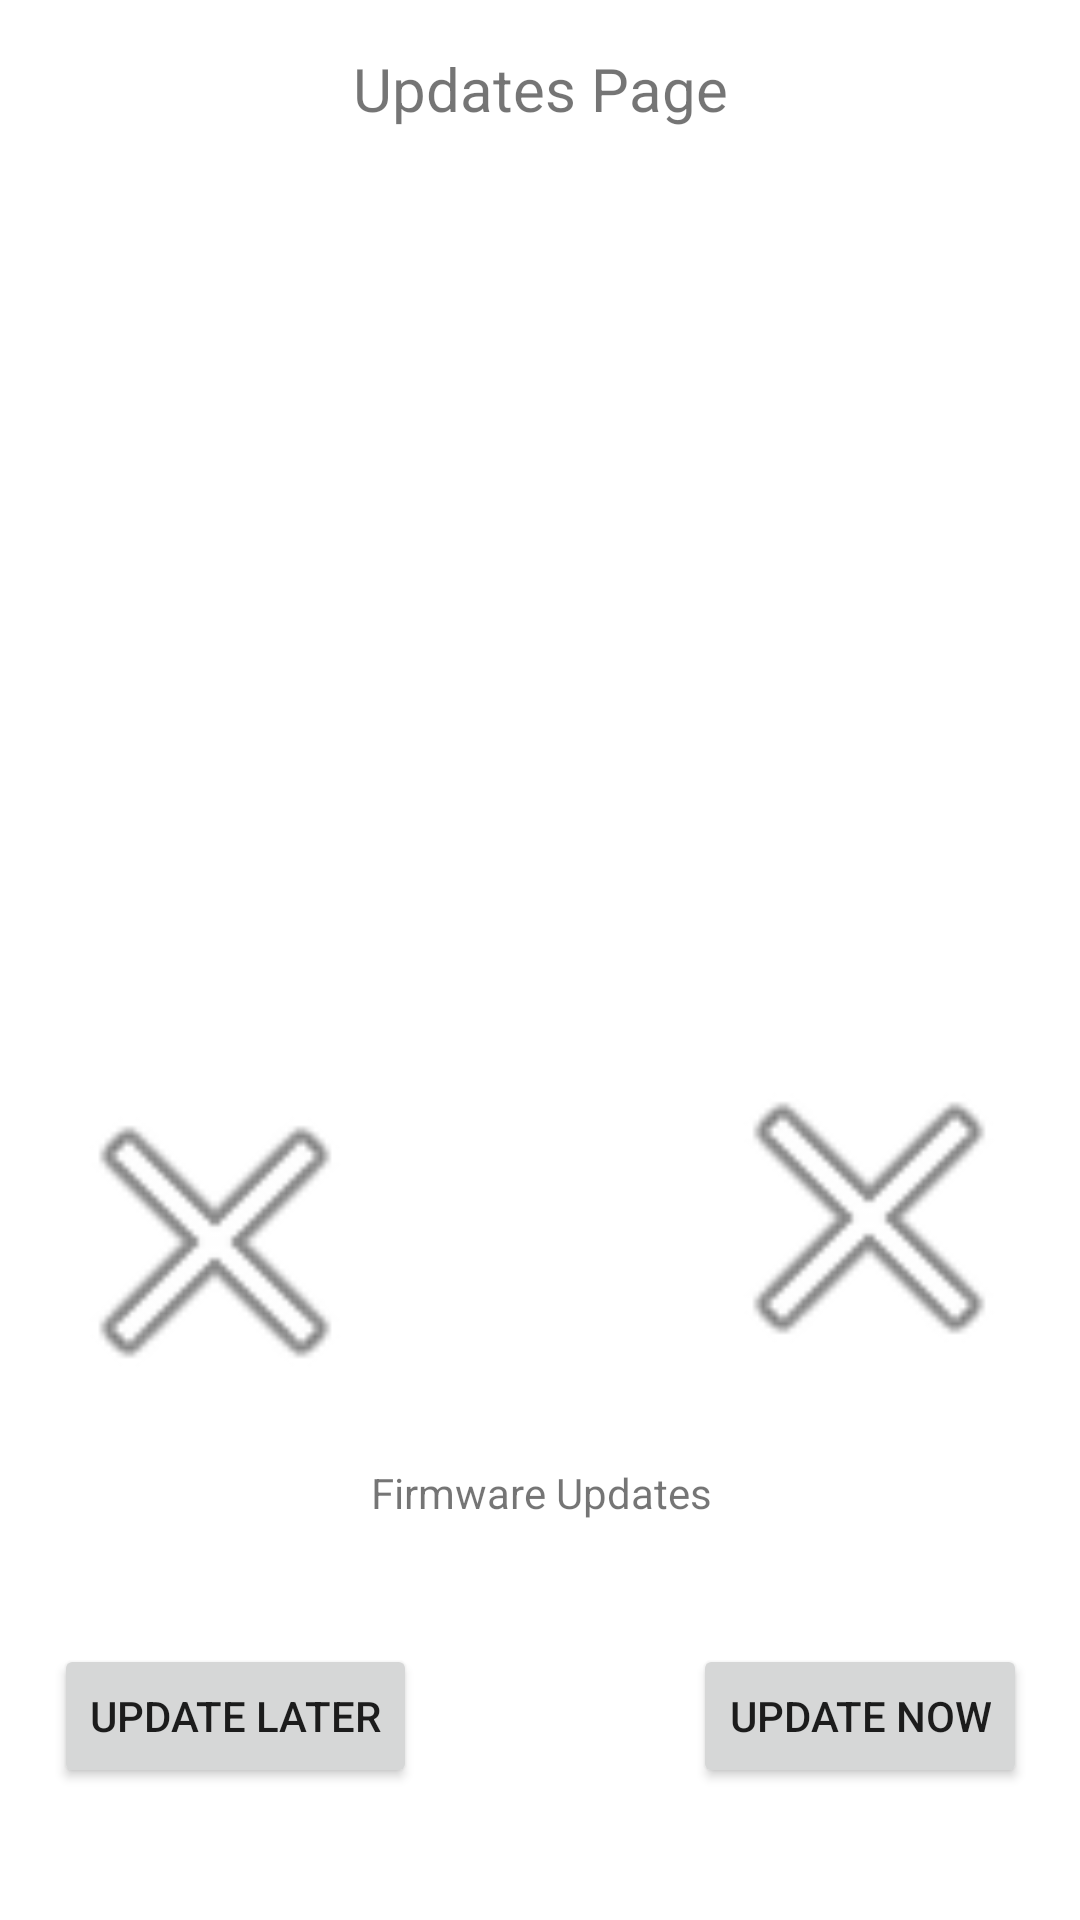

Where icons sit on this 1080px x 1920px app screen, as (left=x1, top=y1, right=x2, bottom=y2):
close clear cancel: (left=754, top=1103, right=984, bottom=1333), (left=100, top=1127, right=330, bottom=1357)
